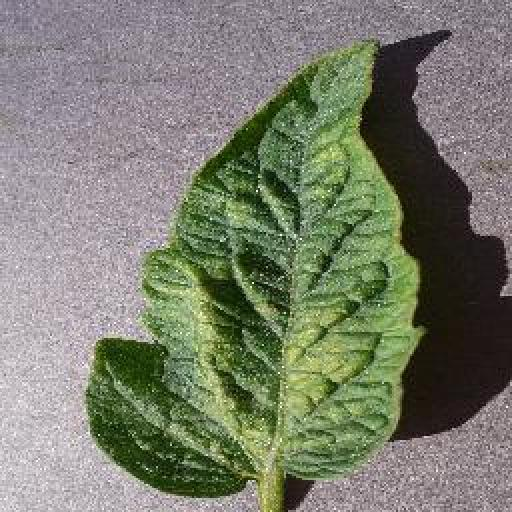Spider Mites: (87, 40, 425, 495)
